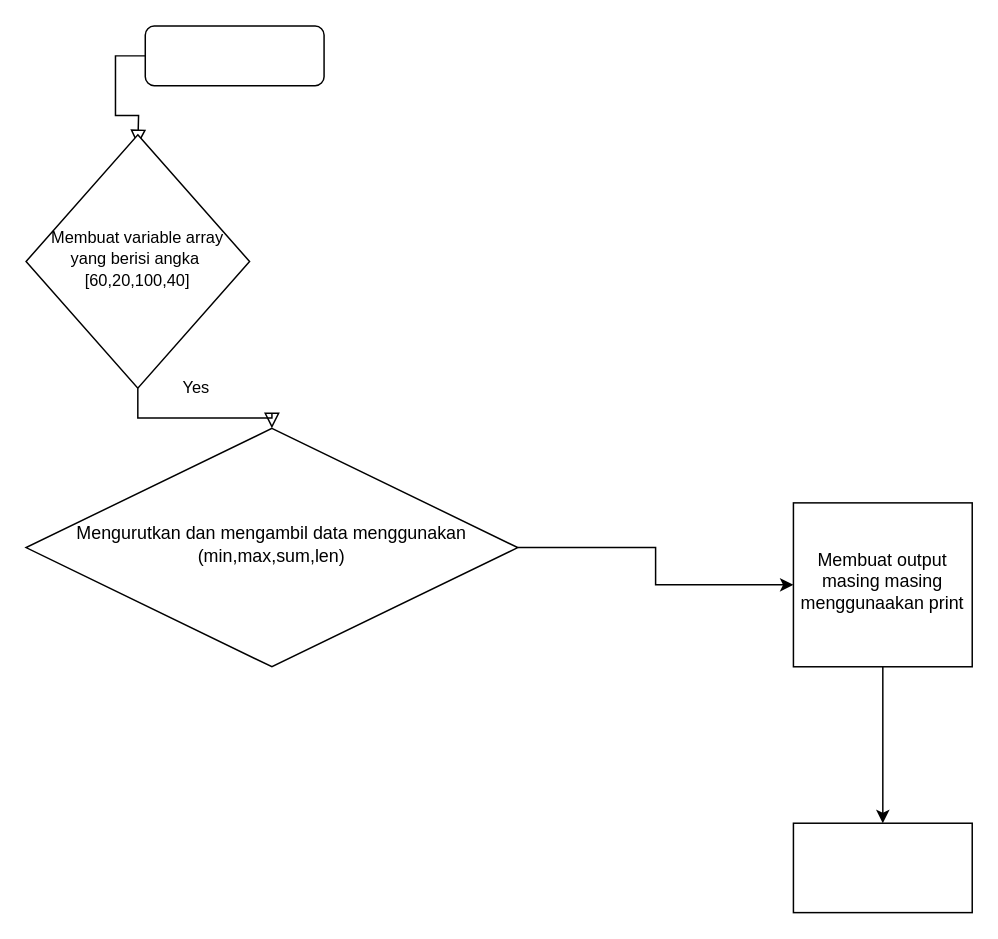
Some shapes in this 998 by 939 pixel diagram are drawn without their labels. The centre of each missing label's shape, as x and y in pixels:
"END" goes at pixel 882 867.
"MULAI" goes at pixel 234 55.
